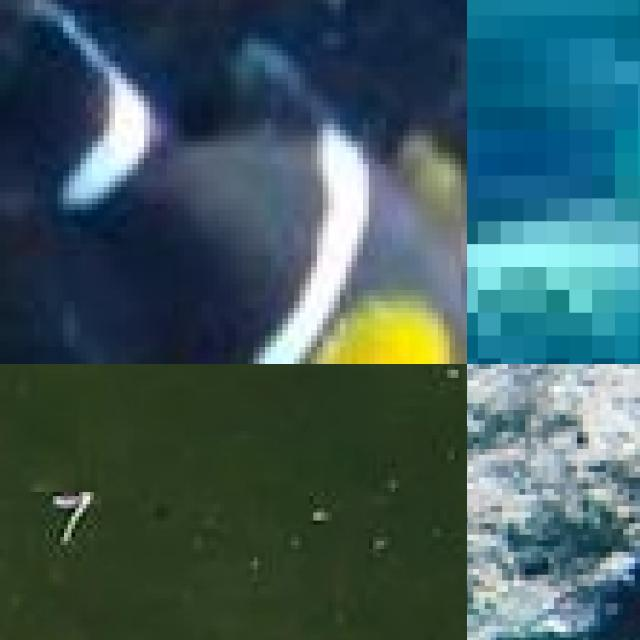fish: (0, 0, 467, 364), (0, 364, 467, 640)
